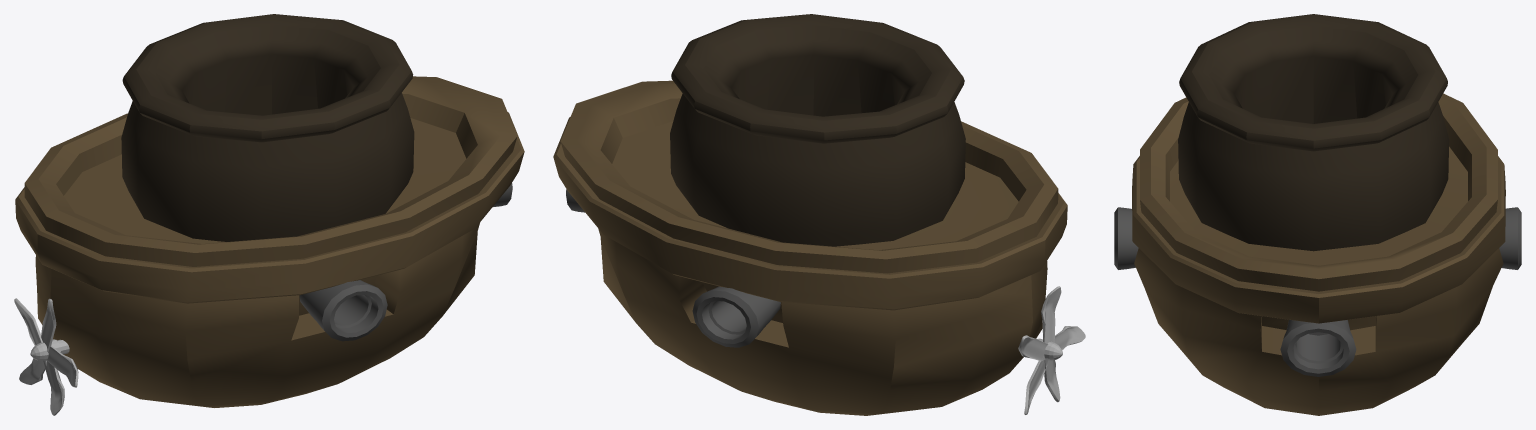
File: BossMortar.fbx
3 views of the same model, side by side, from view 1: azimuth 30°, elevation 25°; view 2: azimuth 150°, elevation 25°; view 3: azimuth 270°, elevation 25° (orthographic).
Visible parts, largest first — view 1: pSphere1, pCylinder1, pCylinder7, pCylinder8; view 2: pSphere1, pCylinder1, pCylinder7, pCylinder8; view 3: pSphere1, pCylinder1, pCylinder7.
Part boxes in pixels (bbox=[...]): pSphere1: bbox=[15, 76, 524, 407]; pCylinder1: bbox=[121, 14, 414, 241]; pCylinder7: bbox=[299, 183, 512, 341]; pCylinder8: bbox=[14, 298, 78, 415]; pSphere1: bbox=[553, 80, 1067, 415]; pCylinder1: bbox=[670, 14, 965, 246]; pCylinder7: bbox=[566, 189, 780, 347]; pCylinder8: bbox=[1018, 286, 1085, 414]; pSphere1: bbox=[1132, 93, 1505, 415]; pCylinder1: bbox=[1178, 14, 1449, 251]; pCylinder7: bbox=[1114, 207, 1521, 376].
Bounding box in the file's own units: 14.95 × 9.32 × 10.89.
